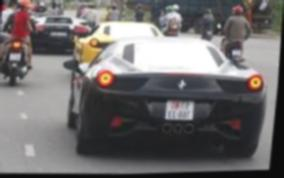License_Plate: (164, 97, 195, 122), (9, 52, 21, 63), (49, 31, 68, 36), (231, 49, 242, 57)
